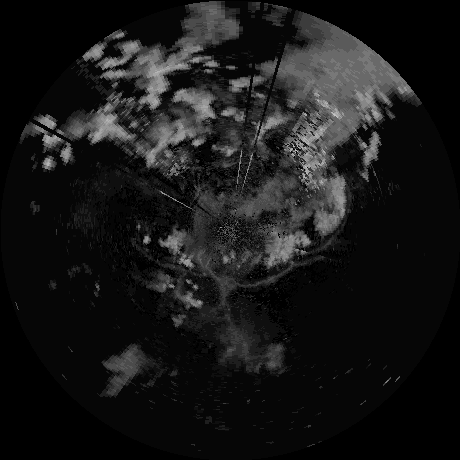frontgust: (207, 263, 292, 288), (134, 243, 198, 275), (297, 229, 342, 253)
